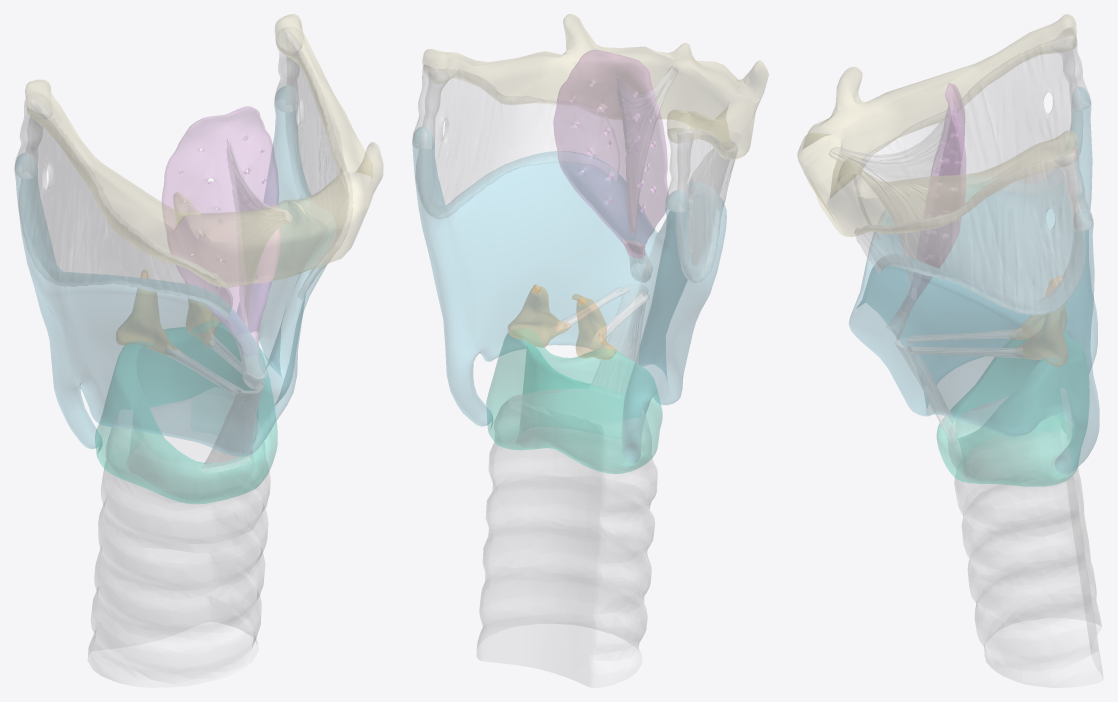
Rendered from LarynxTransparent.fbx.
3 views of the same model, side by side, from view 1: azimuth 30°, elevation 25°; view 2: azimuth 150°, elevation 25°; view 3: azimuth 270°, elevation 25° (orthographic). The views are drawn at different scales.
Parts seen in each view (by area): view 1: Thryoid_cartilage, Trachea, Hyoid, Right_Thyroid_Membrane, Epoglottis, Cricoid_cartilage, Vocal_Ligament, Left_Thyroid_Membrane; view 2: Thryoid_cartilage, Trachea, Hyoid, Cricoid_cartilage, Left_Thyroid_Membrane, Epoglottis, Vocal_Ligament, Right_Thyroid_Membrane; view 3: Thryoid_cartilage, Trachea, Hyoid, Left_Thyroid_Membrane, Right_Thyroid_Membrane, Cricoid_cartilage, Vocal_Ligament, Epoglottis.
Part boxes in pixels (x1,y1,x2,y2): Thryoid_cartilage: (15, 86, 329, 456); Trachea: (88, 398, 270, 687); Hyoid: (25, 14, 383, 287); Right_Thyroid_Membrane: (14, 92, 232, 318); Epoglottis: (162, 106, 280, 344); Cricoid_cartilage: (95, 323, 277, 503); Vocal_Ligament: (116, 138, 292, 472); Left_Thyroid_Membrane: (275, 27, 352, 299); Thryoid_cartilage: (412, 126, 726, 463); Trachea: (477, 389, 657, 687); Hyoid: (422, 14, 768, 158); Cricoid_cartilage: (486, 328, 662, 473); Left_Thyroid_Membrane: (412, 64, 619, 218); Epoglottis: (553, 50, 668, 258); Vocal_Ligament: (508, 66, 678, 393); Right_Thyroid_Membrane: (665, 128, 737, 282); Thryoid_cartilage: (849, 87, 1099, 474); Trachea: (947, 398, 1103, 687); Hyoid: (797, 14, 1078, 236); Left_Thyroid_Membrane: (854, 146, 1093, 314); Right_Thyroid_Membrane: (854, 27, 1090, 224); Cricoid_cartilage: (937, 332, 1089, 486); Vocal_Ligament: (829, 117, 1067, 445); Epoglottis: (909, 83, 966, 299).
Size of the model in its own units: 38.66 by 78.74 by 37.82.
